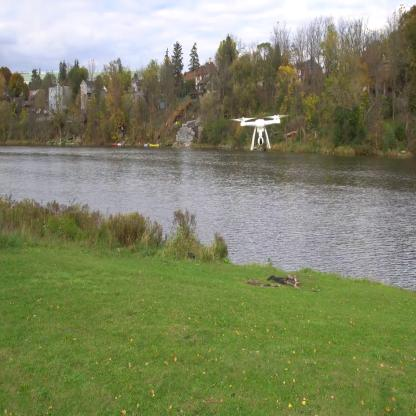drone: (233, 107, 288, 143)
